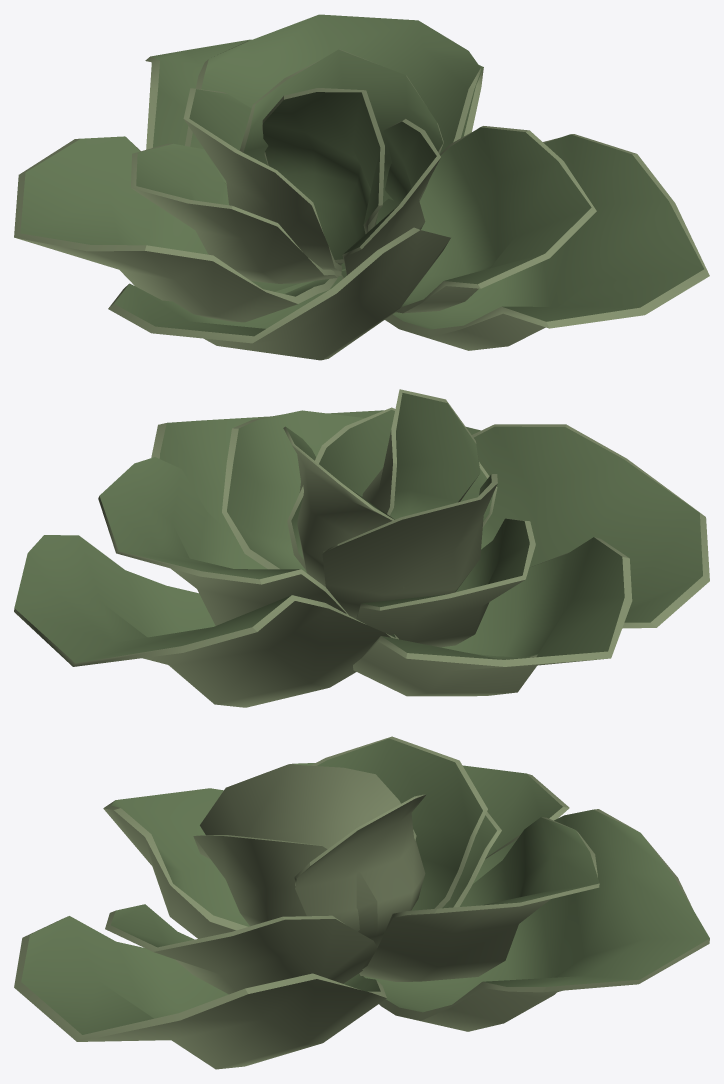
The model's file is PL_cabbageStage2_01.fbx.
The picture shows the model from 3 angles, top to bottom: view 1: azimuth 30°, elevation 25°; view 2: azimuth 150°, elevation 25°; view 3: azimuth 270°, elevation 25°; orthographic projection. The views are drawn at different scales.
Visible parts, largest first — view 1: PL_cabbageStage2_01; view 2: PL_cabbageStage2_01; view 3: PL_cabbageStage2_01.
Part boxes in pixels (box(x1,y1,x2,y2)): PL_cabbageStage2_01: box(14, 14, 709, 360); PL_cabbageStage2_01: box(14, 389, 709, 707); PL_cabbageStage2_01: box(14, 736, 709, 1069).
Size of the model in its own units: 56.07 by 25.01 by 64.33.
1 material, 1 textured.
